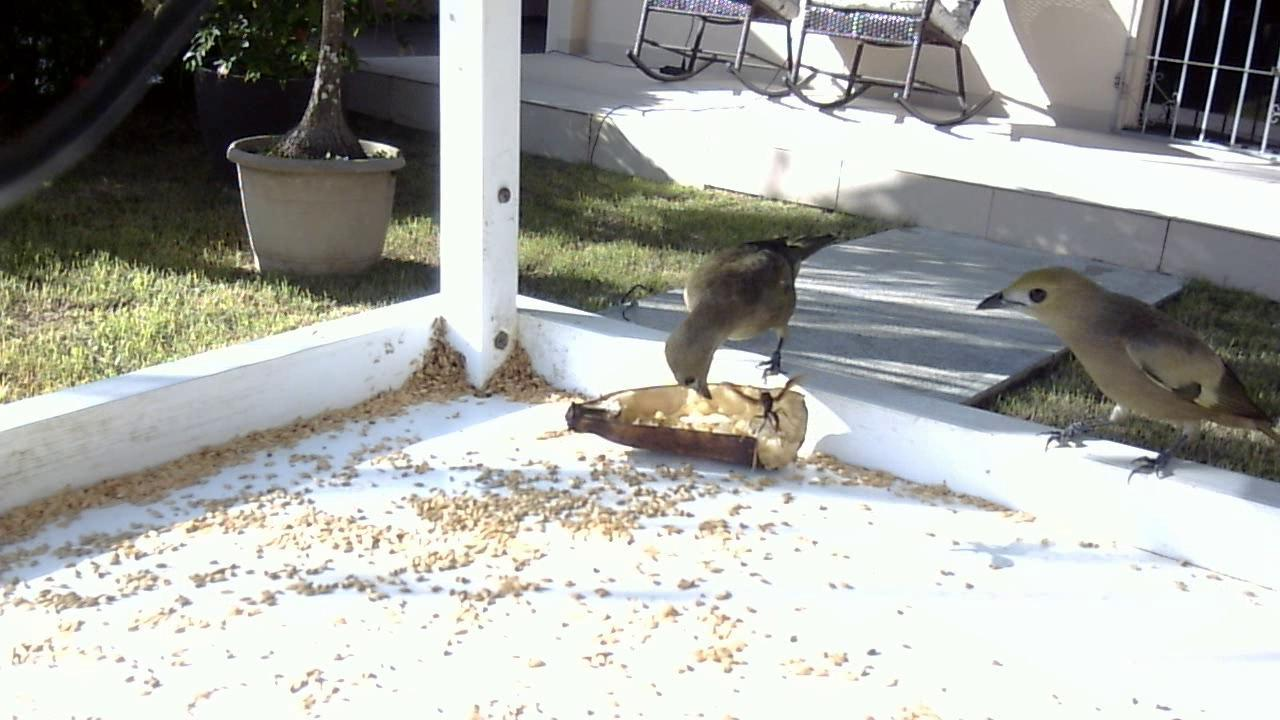sanhaco_do_coqueiro: (966, 258, 1270, 494), (654, 217, 873, 412)
